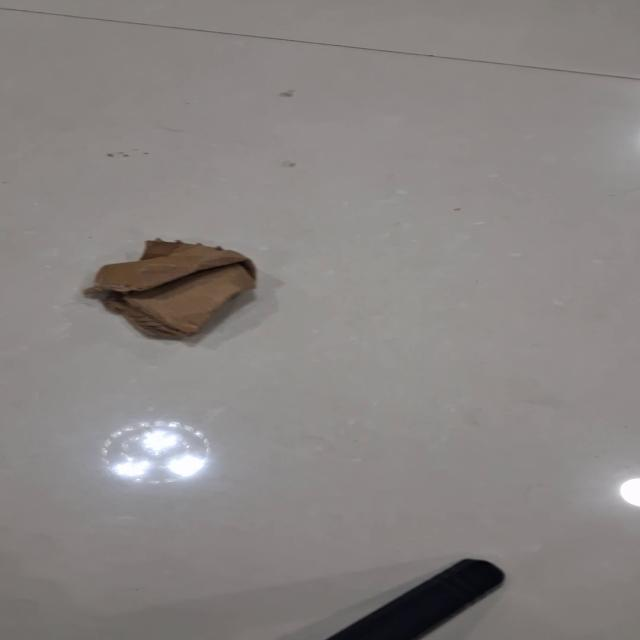paper: (86, 237, 258, 340)
